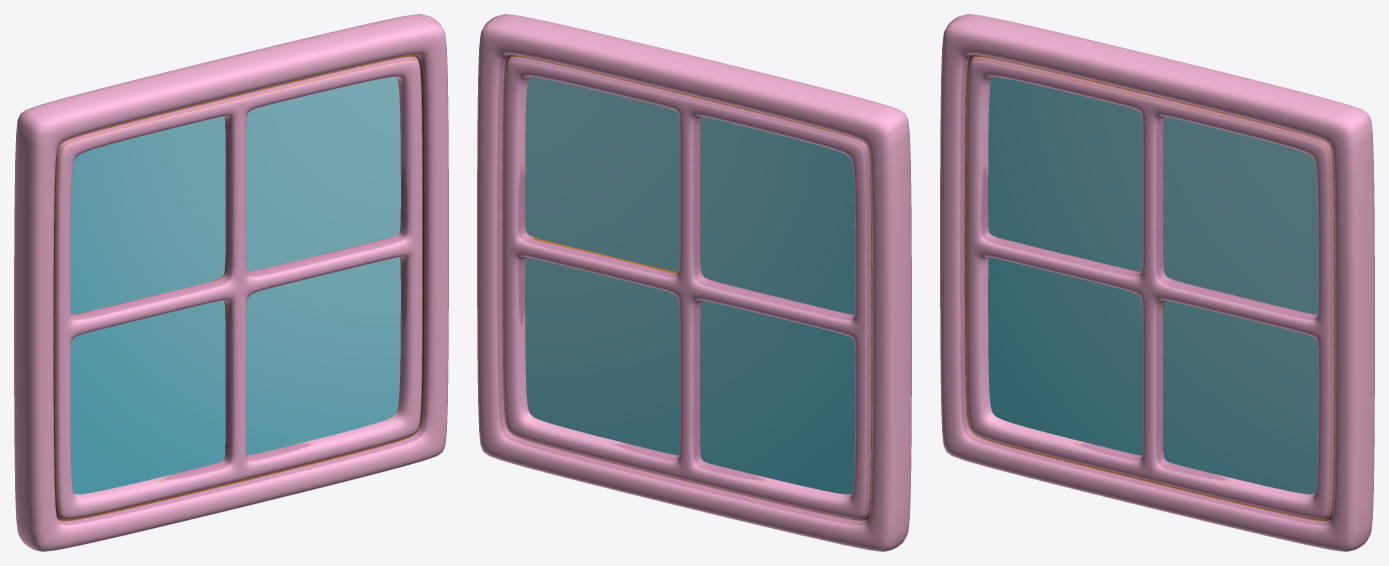
The picture shows the model from 3 angles, left to right: view 1: azimuth 30°, elevation 25°; view 2: azimuth 150°, elevation 25°; view 3: azimuth 330°, elevation 25°; orthographic projection.
Parts seen in each view (by area): view 1: CW1a; view 2: CW1a; view 3: CW1a.
Boxes of the visible parts, bbox=[...] form: CW1a: bbox=[14, 14, 448, 551]; CW1a: bbox=[477, 14, 911, 551]; CW1a: bbox=[940, 14, 1374, 551].
Size of the model in its own units: 99.8 by 99.8 by 9.93.
1 material, 1 textured.
